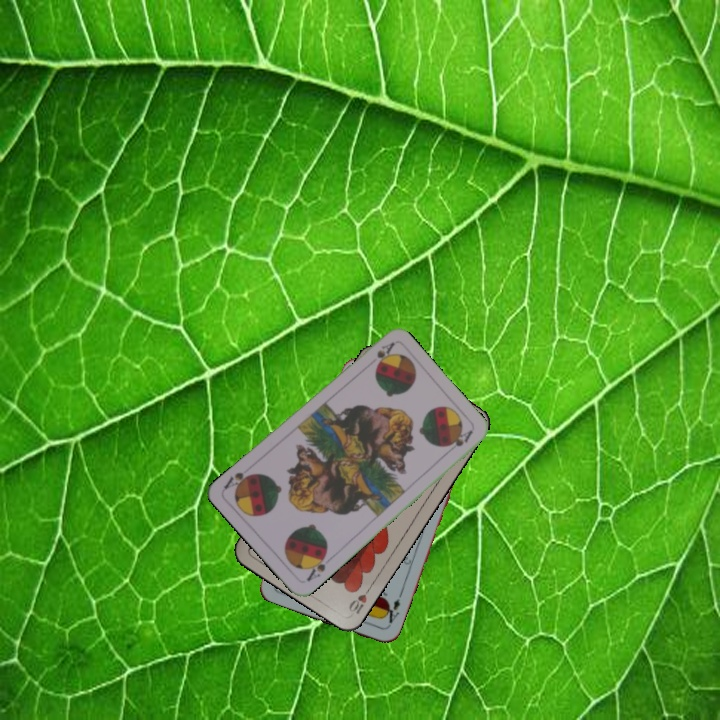EA: (380, 594, 403, 630)
H10: (345, 581, 375, 617)
SA: (302, 549, 330, 584), (372, 338, 397, 368)
